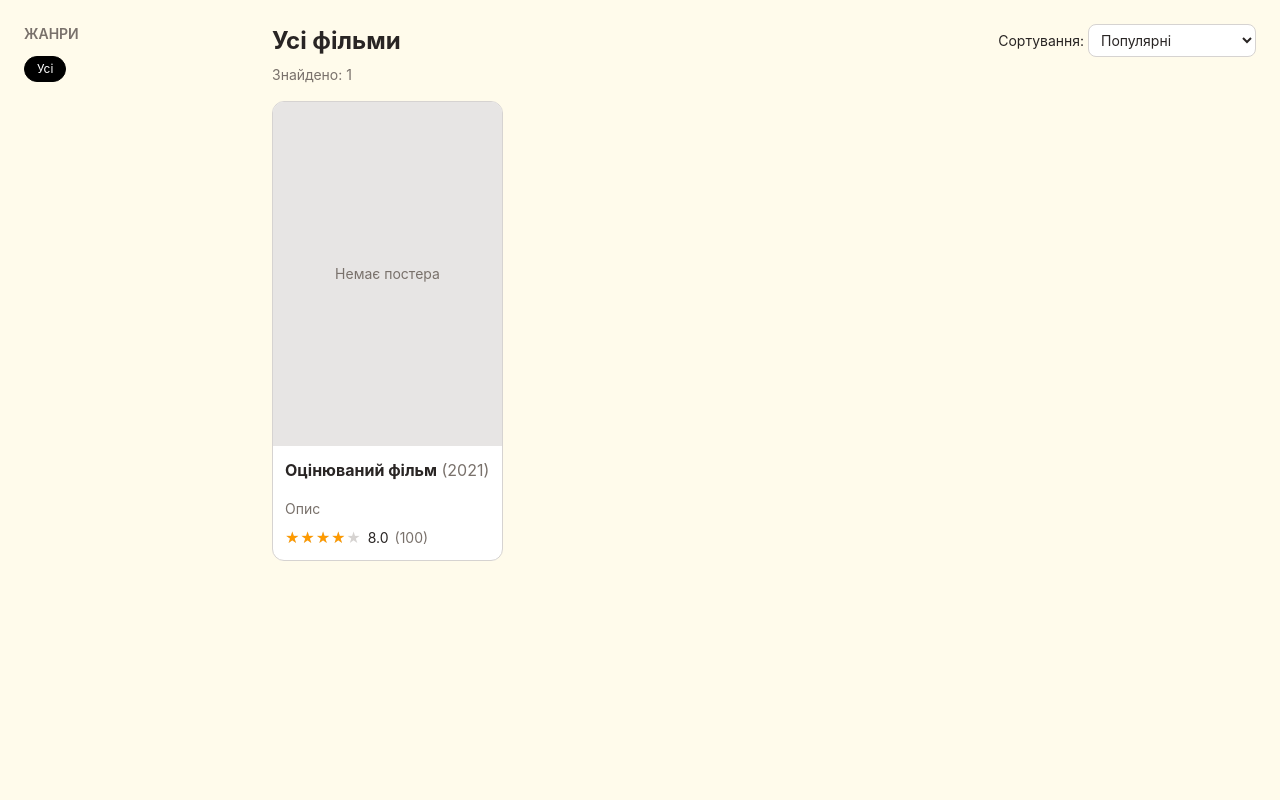
Test: клік по зірці на картці додає оцінку до рейтингу, повторний клік її знімає
Expected: the link "Оцінюваний фільм" is shown, x1=285 y1=460 x2=437 y2=480
Expected: the text "(100)" is shown, x1=394 y1=528 x2=428 y2=548
Step 1. Click the button named "Оцінити на 5 з 5" → (354, 538), box x1=346 y1=528 x2=362 y2=548
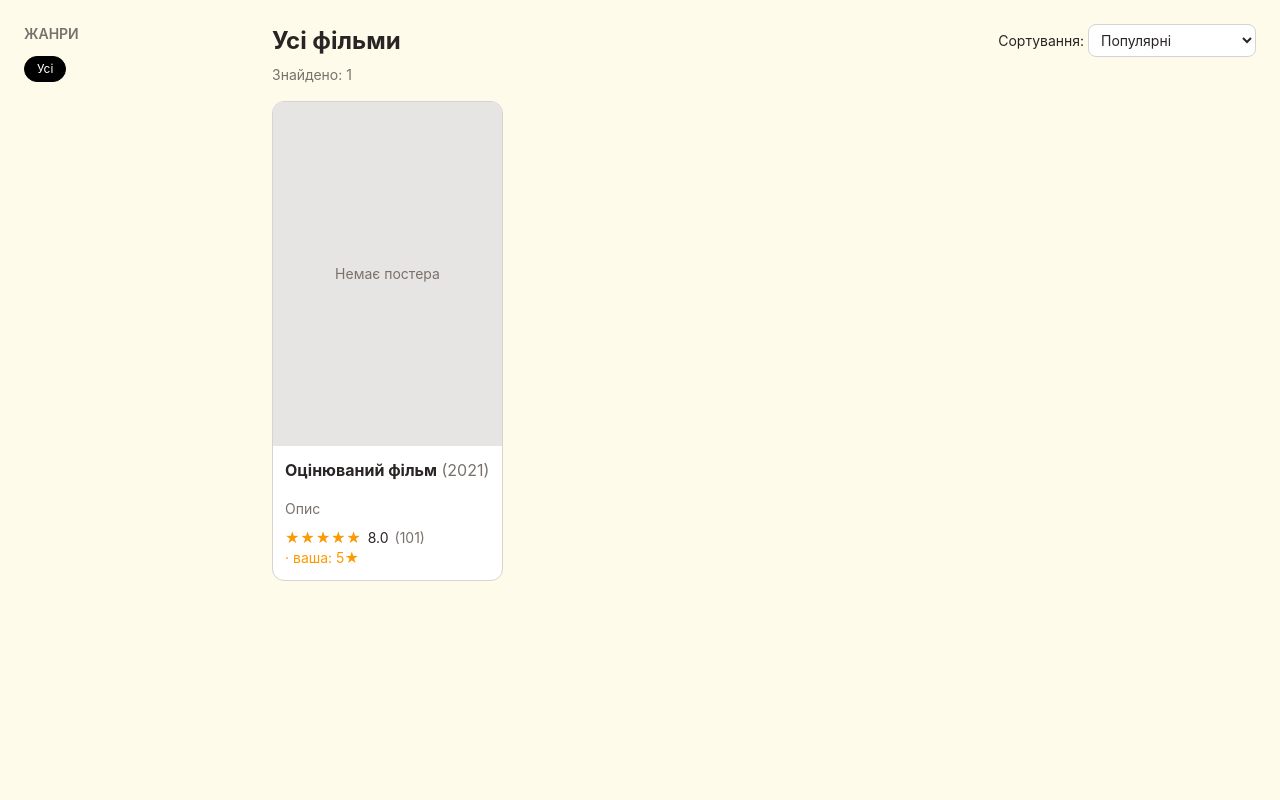
Expected: the text "8.0" is shown, x1=368 y1=528 x2=389 y2=548
Expected: the text "(101)" is shown, x1=394 y1=528 x2=425 y2=548
Expected: the text "· ваша: 5★" is shown, x1=285 y1=548 x2=359 y2=568
Step 2. Click the button named "Оцінити на 5 з 5" → (354, 538), box x1=346 y1=528 x2=362 y2=548
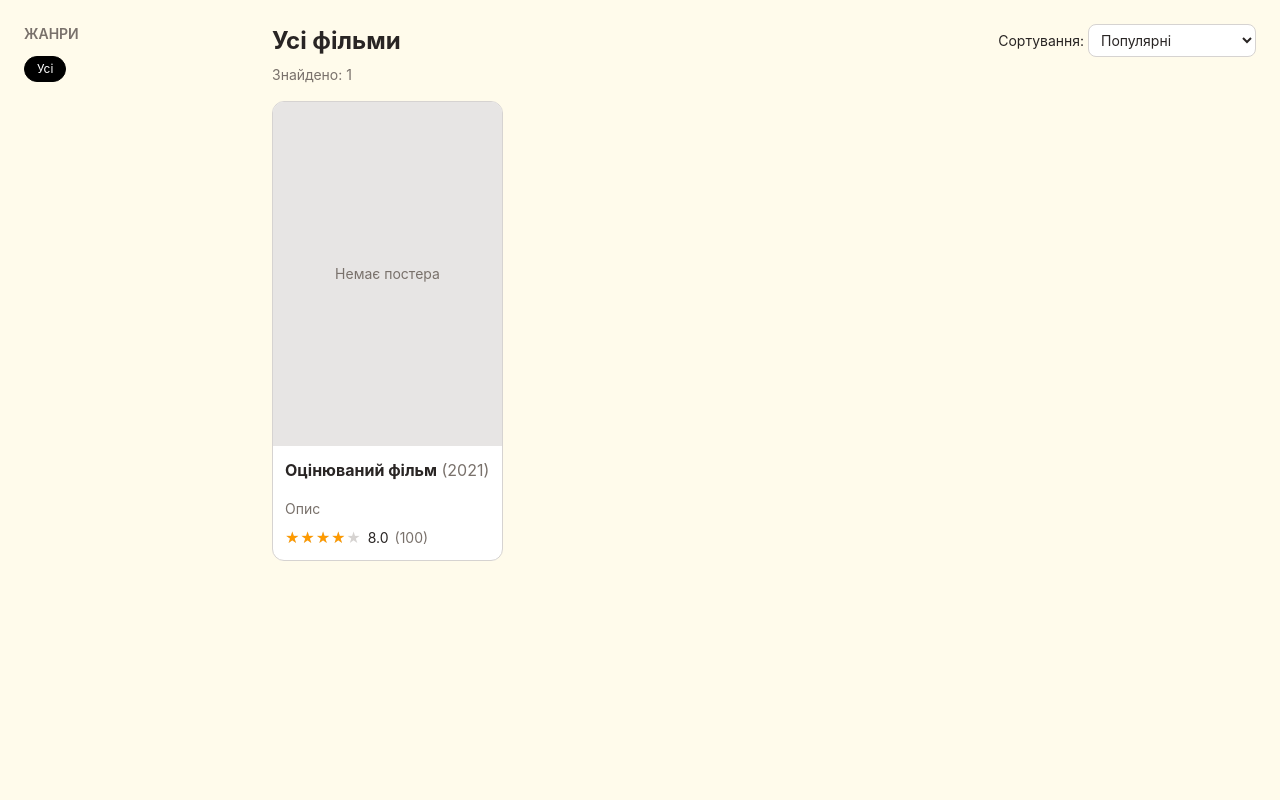
Expected: the text "(100)" is shown, x1=394 y1=528 x2=428 y2=548
Expected: the text "· ваша: 5★" is gone
